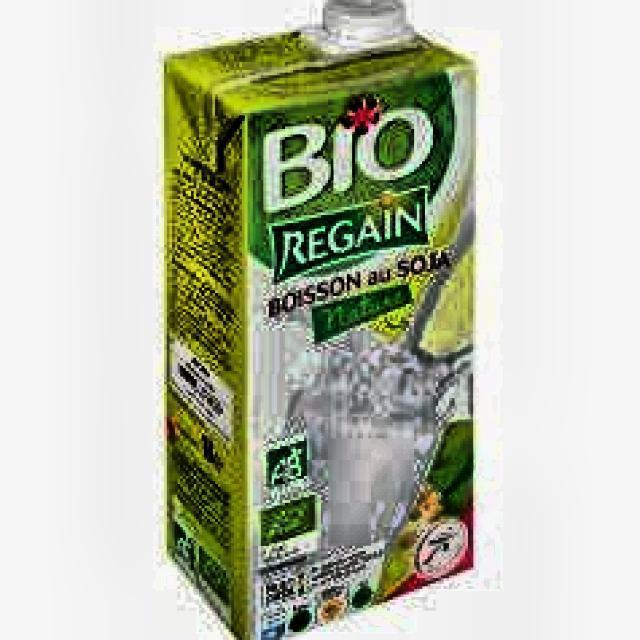cardboard: (158, 0, 476, 640)
